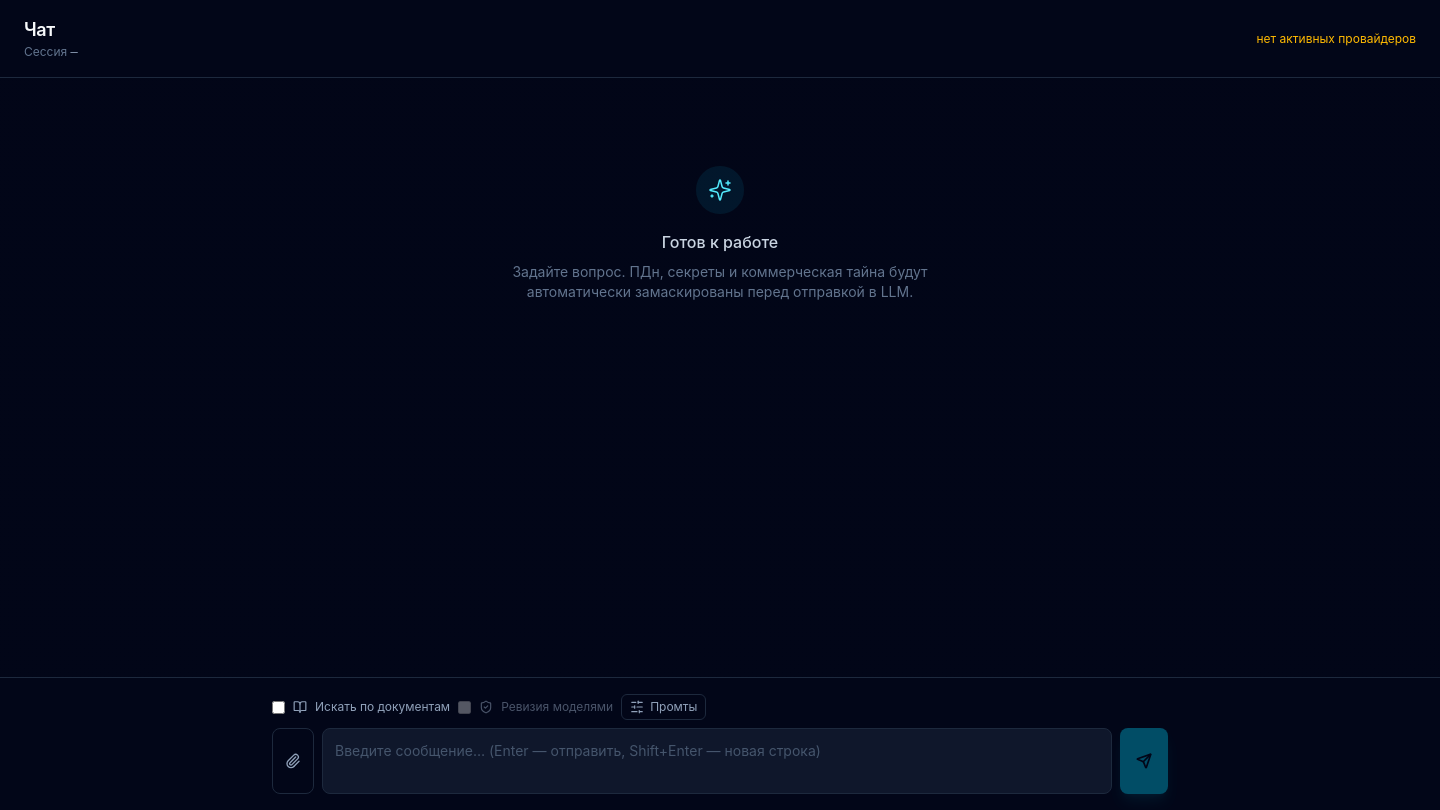
Test: ChatPage — RAG toggle + источники (Итерация 11 §Р4 Ф5) › без включённого toggle rag-параметры не уходят на сервер
Expected: the switch with test id "rag-toggle" is shown, left=272, top=700, right=285, bottom=714
Replace the text in the text box labelled "сообщение" with "вопрос" at (717, 761), box left=322, top=728, right=1112, bottom=794
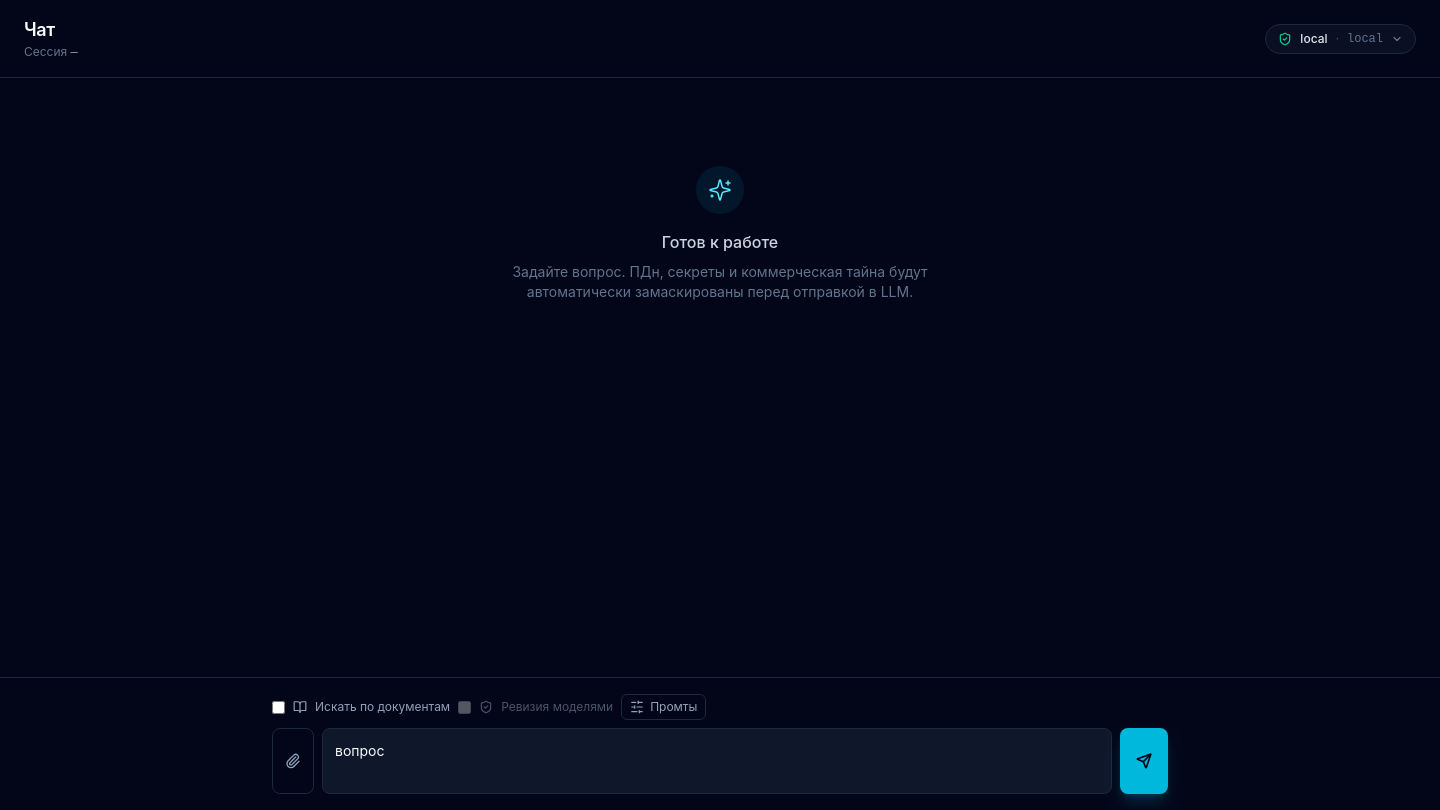
Press Enter in the text box named "сообщение", box left=322, top=728, right=1112, bottom=794
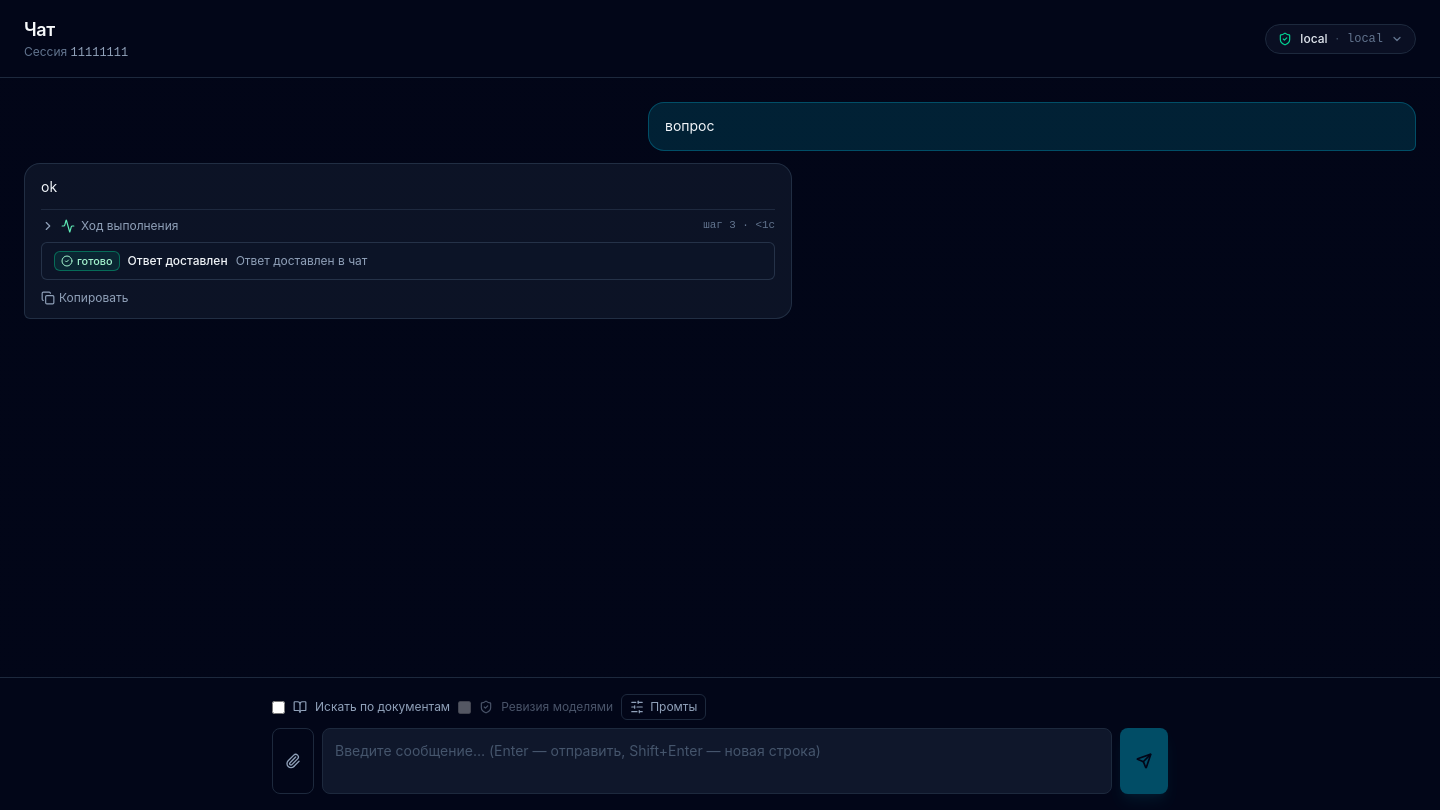
Expected: the text "ok" is shown, left=41, top=178, right=57, bottom=195
